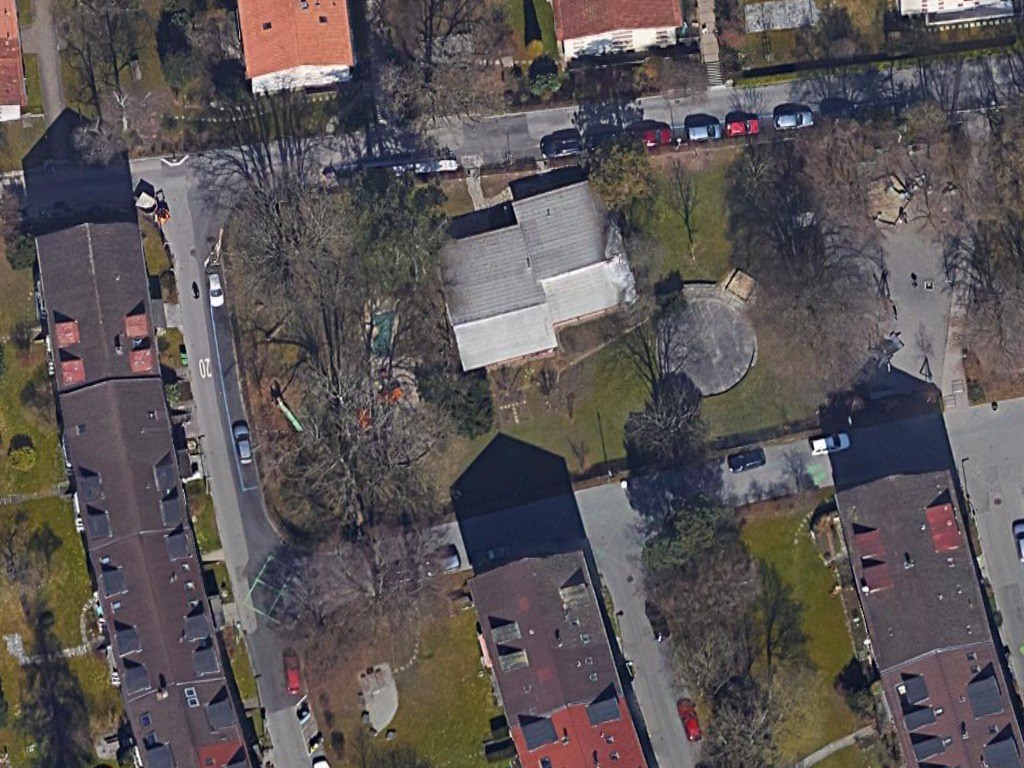car: (230, 418, 257, 469), (770, 107, 820, 134), (719, 115, 765, 139), (681, 120, 725, 143), (204, 269, 226, 314)
